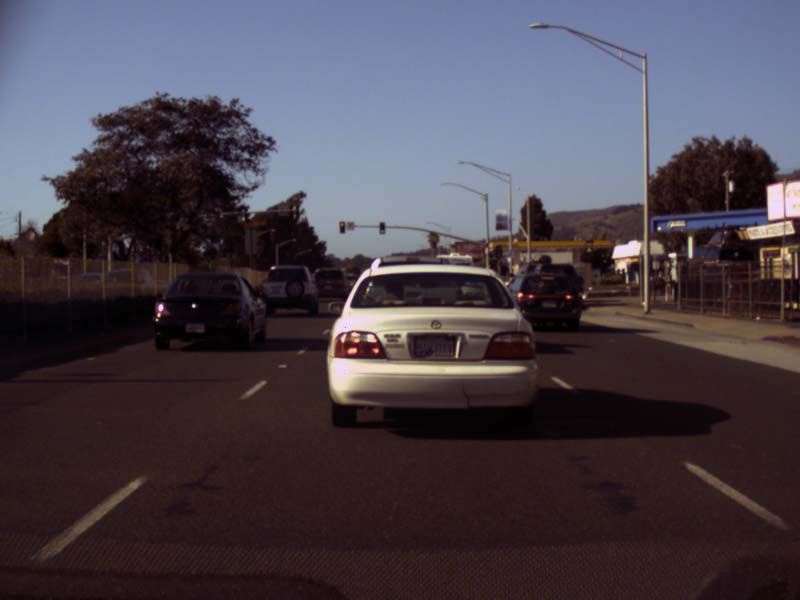Green: (378, 221, 385, 234)
Red: (338, 220, 345, 234)
